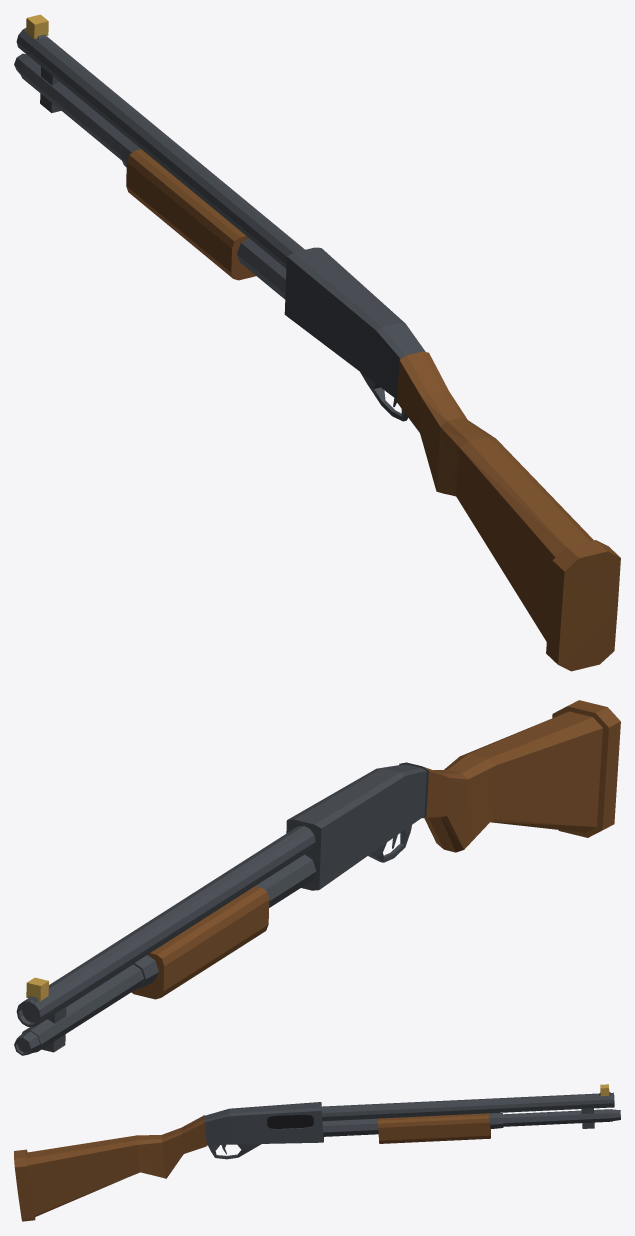
File: shotgun.glb
The picture shows the model from 3 angles, top to bottom: view 1: azimuth 30°, elevation 25°; view 2: azimuth 150°, elevation 25°; view 3: azimuth 270°, elevation 25°; orthographic projection. The views are drawn at different scales.
Visible parts, largest first — view 1: body_wood_Brown_Shotgun01, body_metal_Gray_Shotgun_01, pump_wood_Brown_Shotgun01; view 2: body_metal_Gray_Shotgun_01, body_wood_Brown_Shotgun01, pump_wood_Brown_Shotgun01; view 3: body_metal_Gray_Shotgun_01, body_wood_Brown_Shotgun01, pump_wood_Brown_Shotgun01, body_trim_White_Shotgun_01.
Boxes of the visible parts, x1=… form: body_wood_Brown_Shotgun01: x1=397, y1=351, x2=620, y2=671; body_metal_Gray_Shotgun_01: x1=14, y1=28, x2=425, y2=421; pump_wood_Brown_Shotgun01: x1=126, y1=149, x2=255, y2=280; body_metal_Gray_Shotgun_01: x1=14, y1=762, x2=428, y2=1055; body_wood_Brown_Shotgun01: x1=422, y1=700, x2=620, y2=852; pump_wood_Brown_Shotgun01: x1=131, y1=886, x2=269, y2=999; body_metal_Gray_Shotgun_01: x1=204, y1=1092, x2=620, y2=1159; body_wood_Brown_Shotgun01: x1=14, y1=1115, x2=206, y2=1221; pump_wood_Brown_Shotgun01: x1=378, y1=1113, x2=490, y2=1143; body_trim_White_Shotgun_01: x1=267, y1=1114, x2=313, y2=1128.
Bounding box in the file's own units: 0.0559 × 0.2347 × 0.9801.
